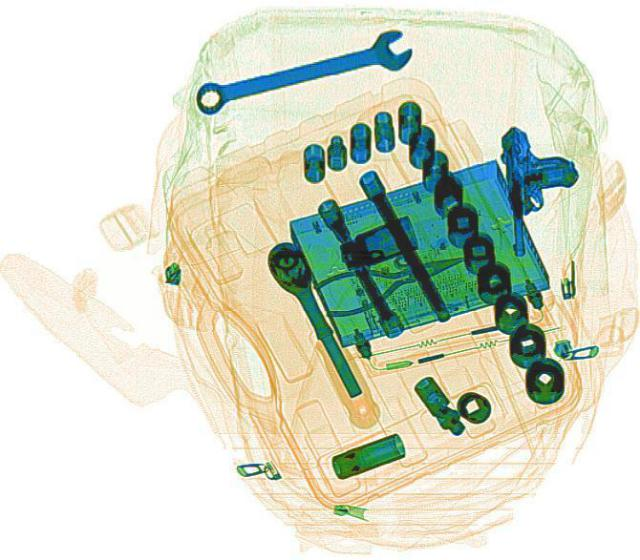Gun: (497, 123, 579, 254)
Pliers: (308, 238, 472, 320)
Wrench: (189, 24, 419, 124)
